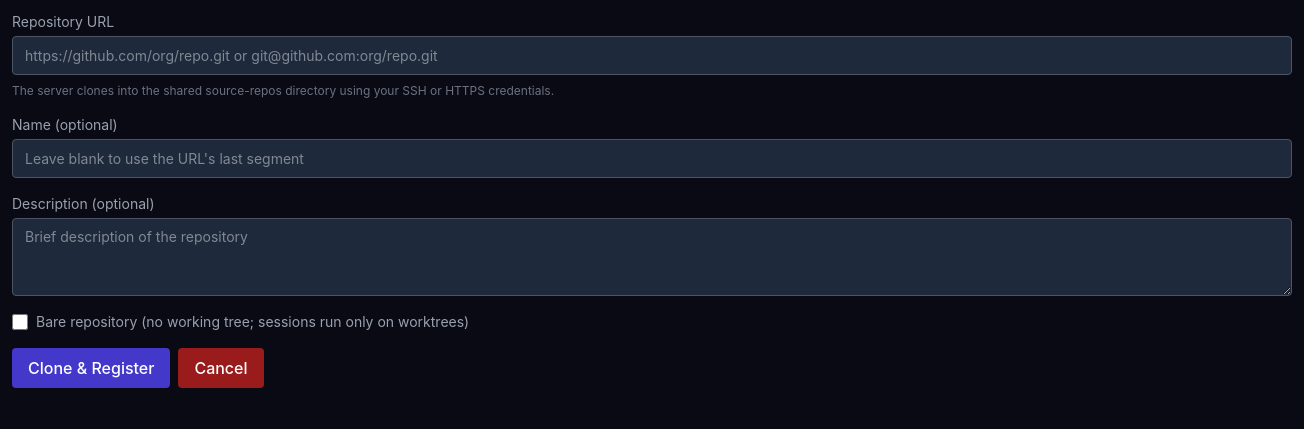
Test: CloneFromUrlForm › validation › blocks submission when optional name has invalid characters
Type "git@github.com:org/repo.git" into the field with placeholder "https://github.com" at (652, 56), box [12, 36, 1292, 75]
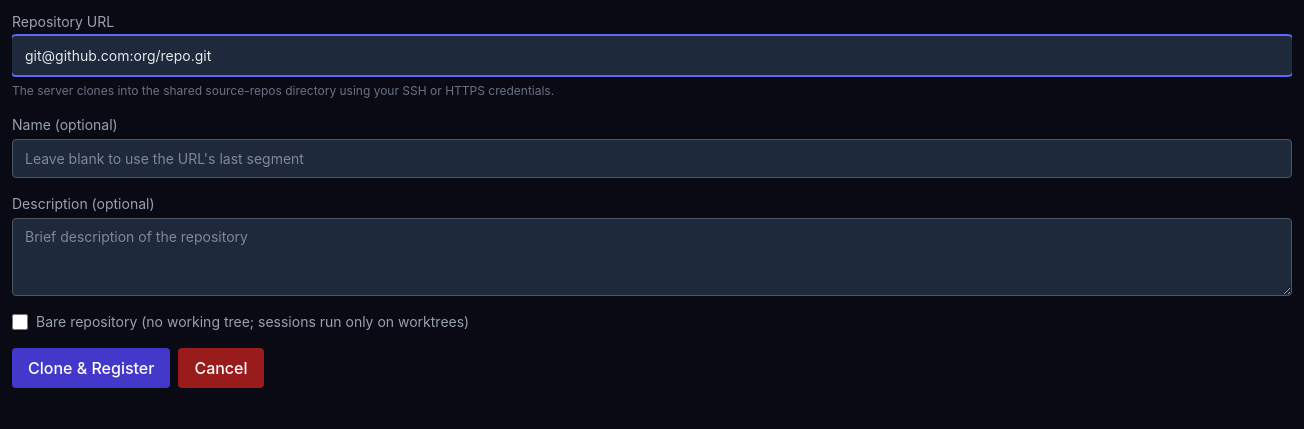
Type "../etc" into the field with placeholder "Leave blank to use the URL's last segment" at (652, 158), box [12, 139, 1292, 178]
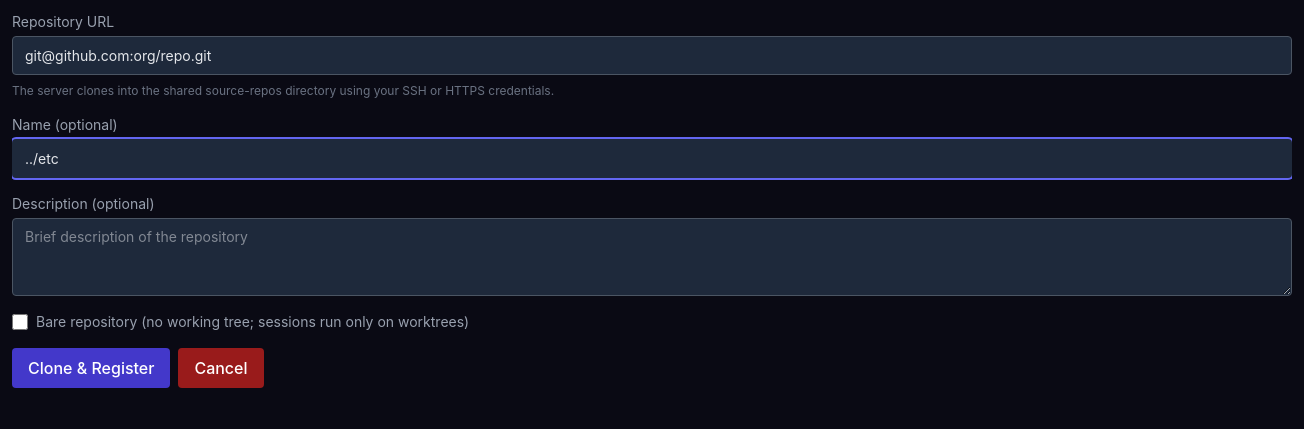
Click the button "Clone & Register" at (91, 368), box [12, 348, 170, 388]
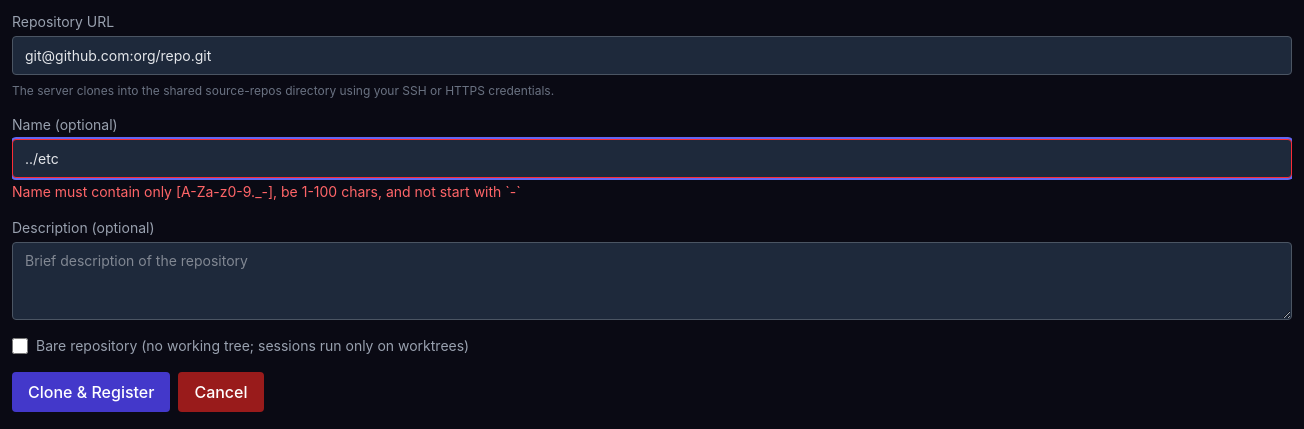
expect the text "Name must contain only [A-Za-z0-9._-], be 1-100 chars, and not start with `-`" is shown: met, box [12, 183, 521, 200]
